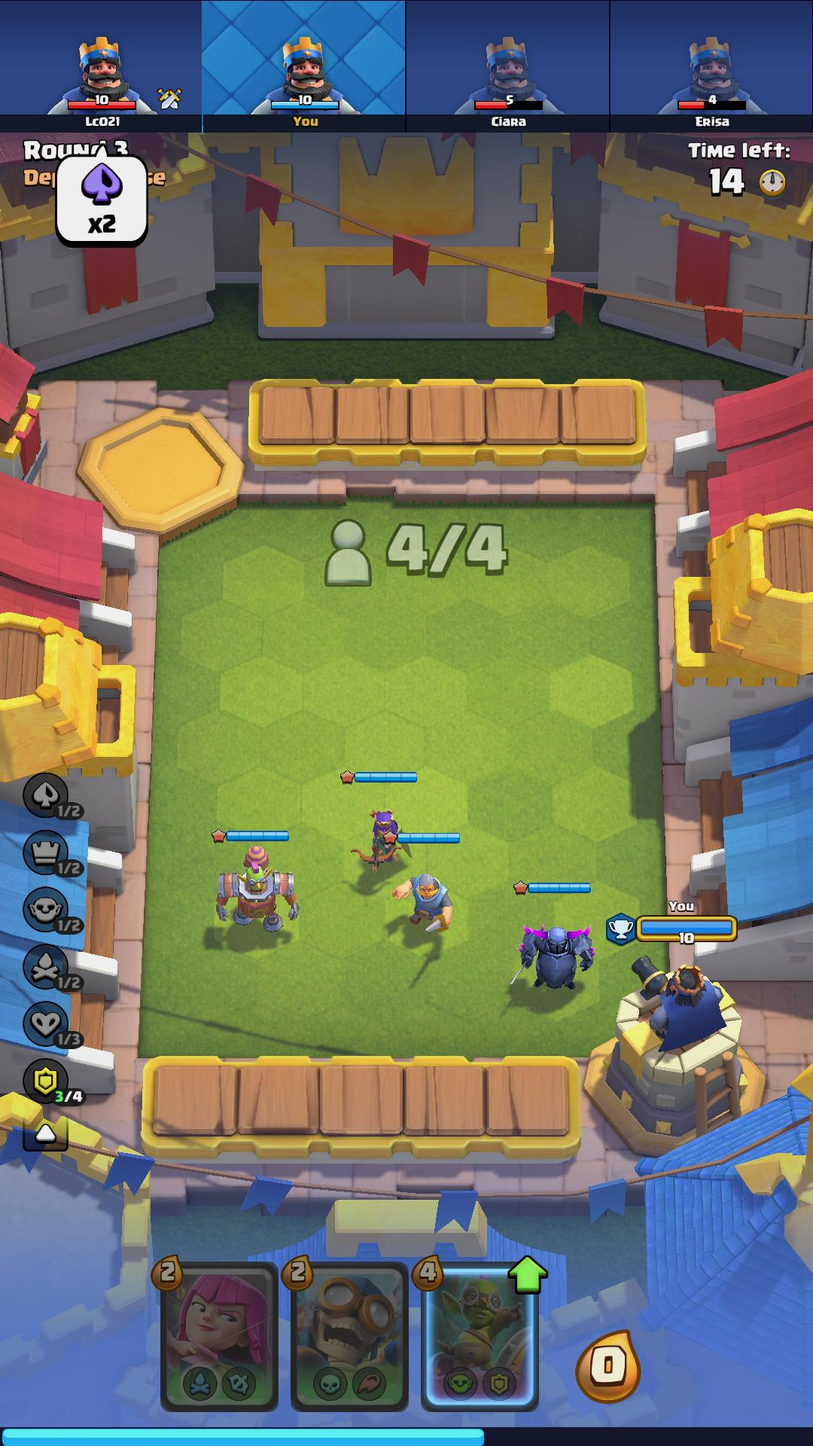hand-archer: (161, 1265, 279, 1411)
hand-bomber: (294, 1263, 405, 1408)
hand-machine: (424, 1268, 532, 1406)
knight: (388, 856, 460, 943)
machine: (208, 841, 304, 933)
pekka: (506, 918, 598, 999)
queen: (341, 803, 412, 872)
upgrade: (508, 1254, 548, 1295)
